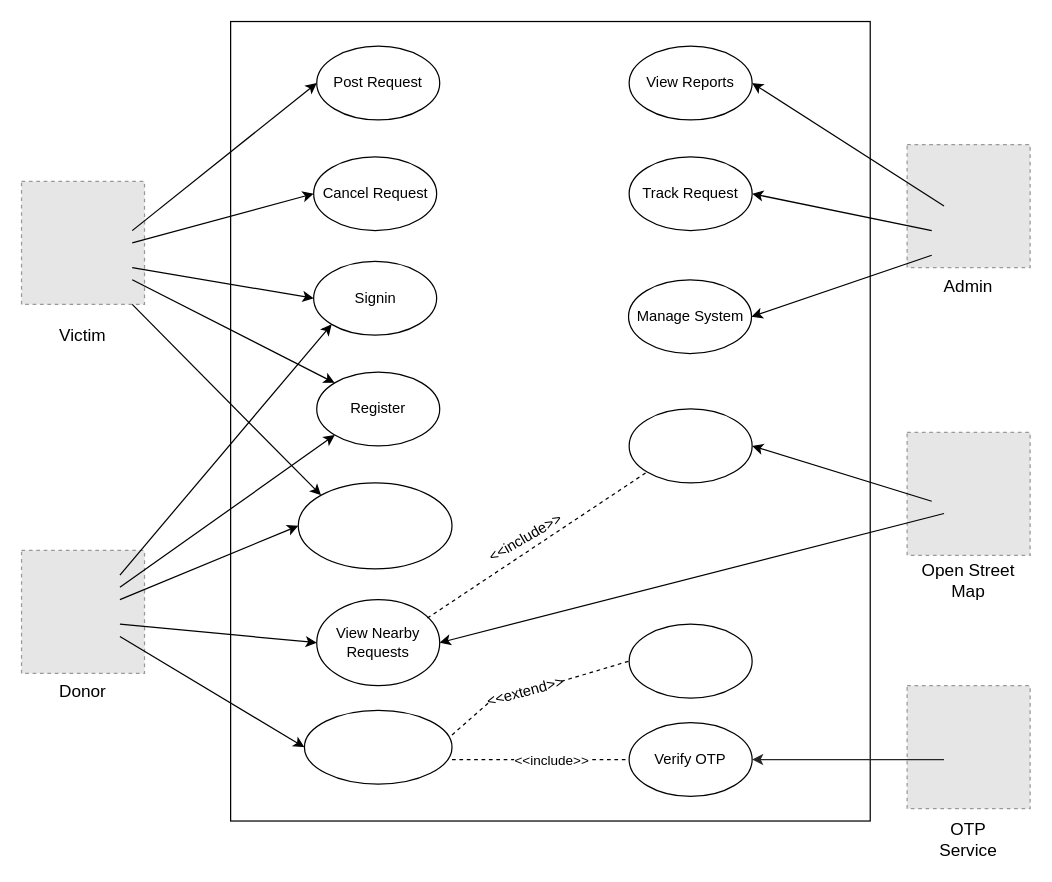
Some shapes in this 1052 by 882 pixel diagram are drawn without their labels. Grey dashed boxes stand in for pictures. Each missing label, with the centre of its shape:
"Accept/Complete Request" belongs at pixel 377 746.
"Display Maps" belongs at pixel 690 445.
"Give Feedback" belongs at pixel 690 660.
"Update Perosnal Info" belongs at pixel 374 525.
